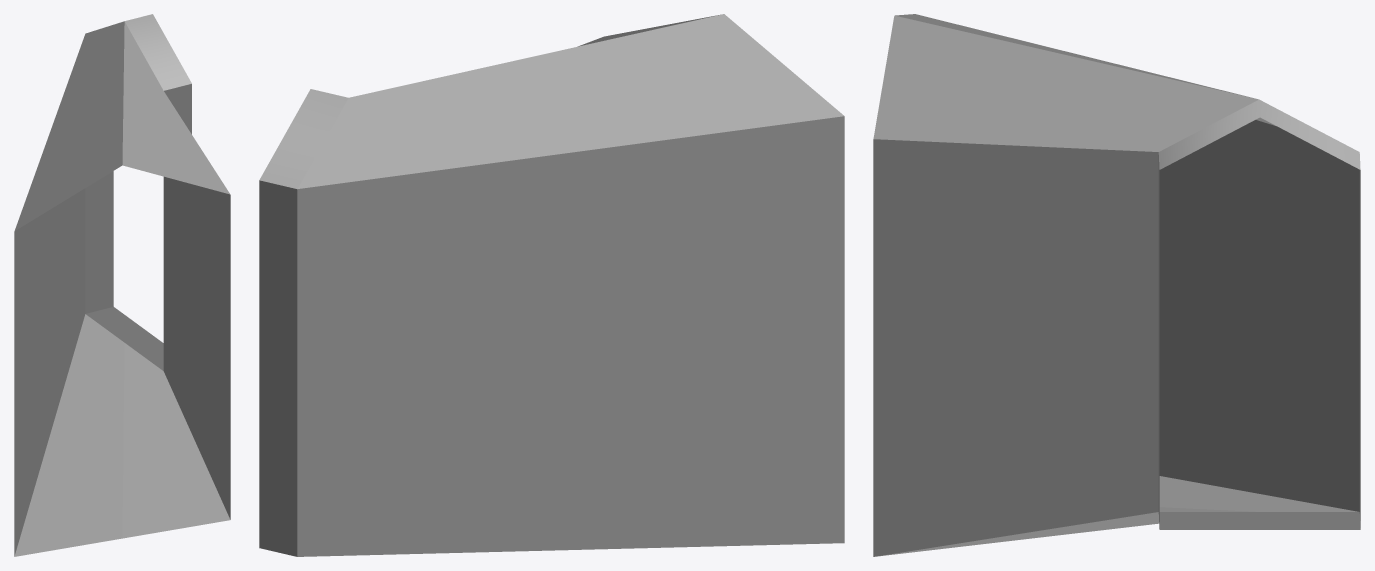
File: AI_FX_Chruch_ColourRay_smaller_Side.fbx
3 views of the same model, side by side, from view 1: azimuth 30°, elevation 25°; view 2: azimuth 150°, elevation 25°; view 3: azimuth 270°, elevation 25° (orthographic). The views are drawn at different scales.
Parts seen in each view (by area): view 1: AI_FX_Chruch_ColourRay_smaller_Side; view 2: AI_FX_Chruch_ColourRay_smaller_Side; view 3: AI_FX_Chruch_ColourRay_smaller_Side.
Part boxes in pixels (<box>): AI_FX_Chruch_ColourRay_smaller_Side: <box>14,14,230,556</box>; AI_FX_Chruch_ColourRay_smaller_Side: <box>259,14,844,556</box>; AI_FX_Chruch_ColourRay_smaller_Side: <box>873,14,1360,556</box>.
Size of the model in its own units: 4.44 by 5.88 by 5.35.
